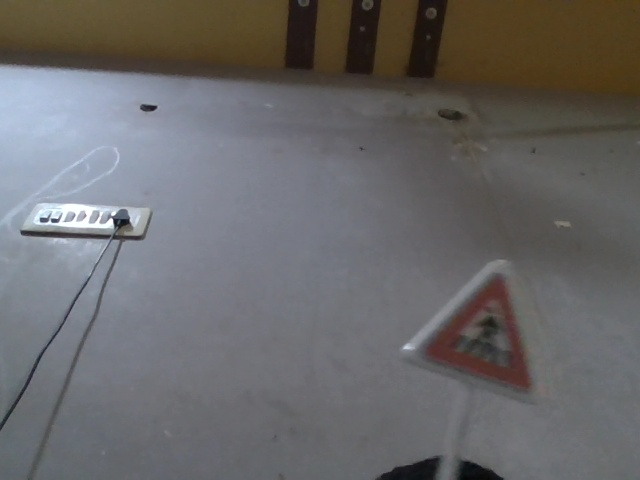crossing: (389, 269, 570, 389)
